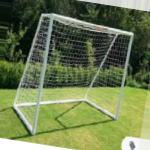goals: (10, 11, 136, 136)
